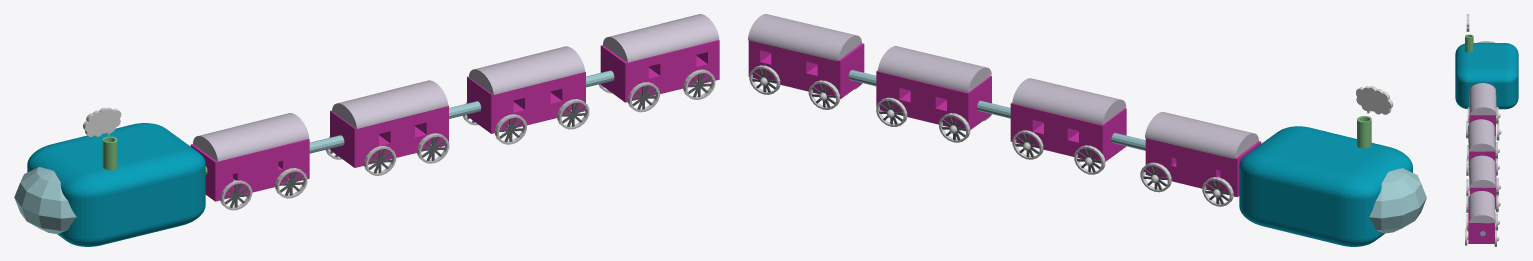
File: TRAIN.glb
The picture shows the model from 3 angles, left to right: view 1: azimuth 30°, elevation 25°; view 2: azimuth 150°, elevation 25°; view 3: azimuth 270°, elevation 25°; orthographic projection. The views are drawn at different scales.
Visible parts, largest first — view 1: Mesh_Mesh_head_geo.001_lambert2SG.001; view 2: Mesh_Mesh_head_geo.001_lambert2SG.001; view 3: Mesh_Mesh_head_geo.001_lambert2SG.001.
Boxes of the visible parts, box(x1,y1,x2,y2) form: Mesh_Mesh_head_geo.001_lambert2SG.001: box(14, 14, 719, 246); Mesh_Mesh_head_geo.001_lambert2SG.001: box(748, 14, 1426, 246); Mesh_Mesh_head_geo.001_lambert2SG.001: box(1455, 14, 1518, 246).
Bounding box in the file's own units: 585 × 110 × 87.
